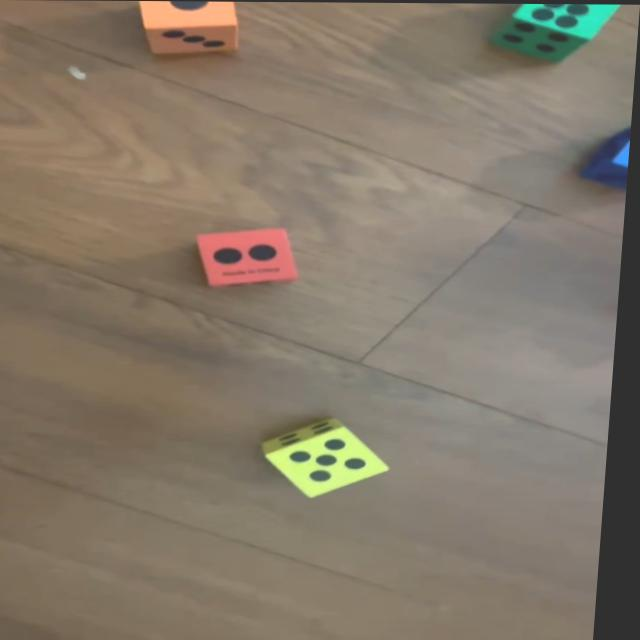cube: (489, 3, 622, 62), (198, 227, 305, 287), (590, 123, 633, 183)
